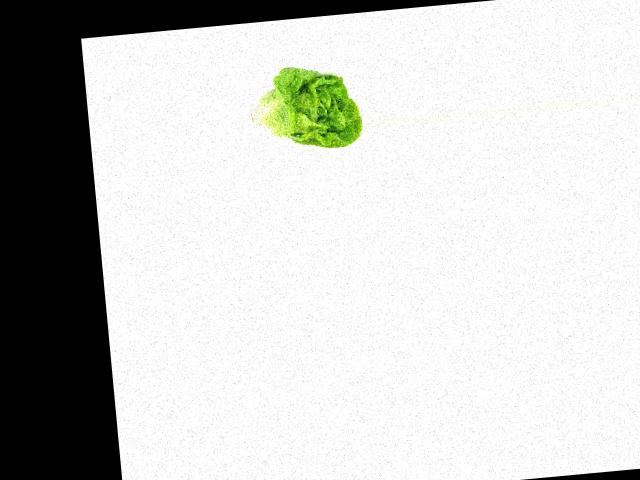lettuce: (242, 55, 364, 158)
